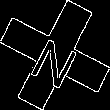N_NE: (26, 23, 84, 87)
